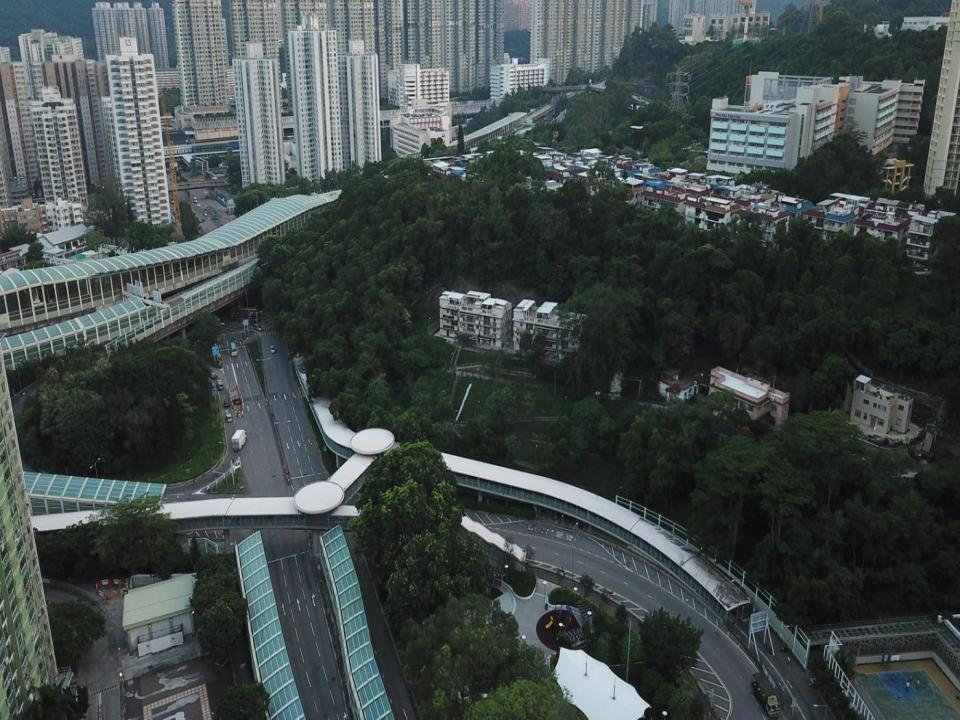bus: (230, 306, 259, 323), (230, 342, 237, 356)
car: (208, 369, 217, 379), (253, 324, 262, 332), (217, 318, 225, 325), (224, 398, 229, 408), (638, 95, 642, 100), (180, 168, 184, 173), (504, 341, 508, 346), (200, 218, 204, 222), (203, 211, 206, 216), (214, 216, 217, 219), (205, 207, 208, 210), (196, 204, 200, 206), (206, 195, 208, 199)
truck: (751, 672, 780, 718), (231, 430, 247, 450)
van: (216, 379, 223, 391), (269, 344, 275, 354), (226, 412, 231, 422), (193, 197, 197, 203)
